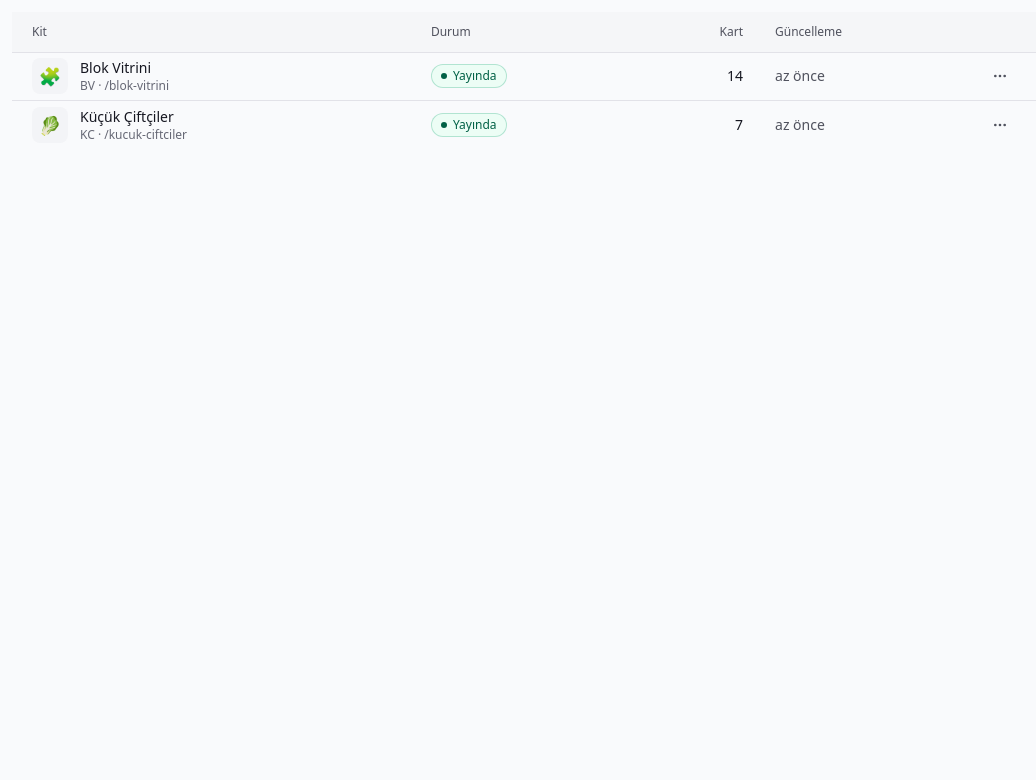
Test: KitsTable › duplicates a kit and opens the copy
Click the button named "Blok Vitrini için işlemler": x=1000, y=76 [984,60,1016,92]
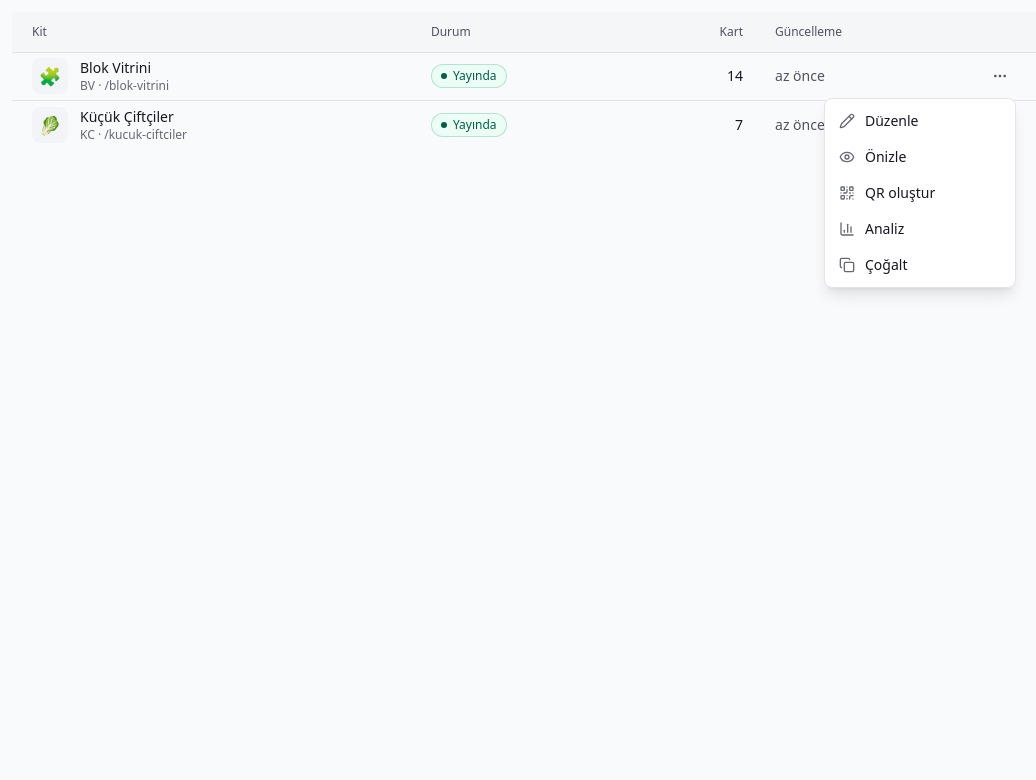
Click the menu item "Çoğalt": x=873, y=264 [839,255,908,274]
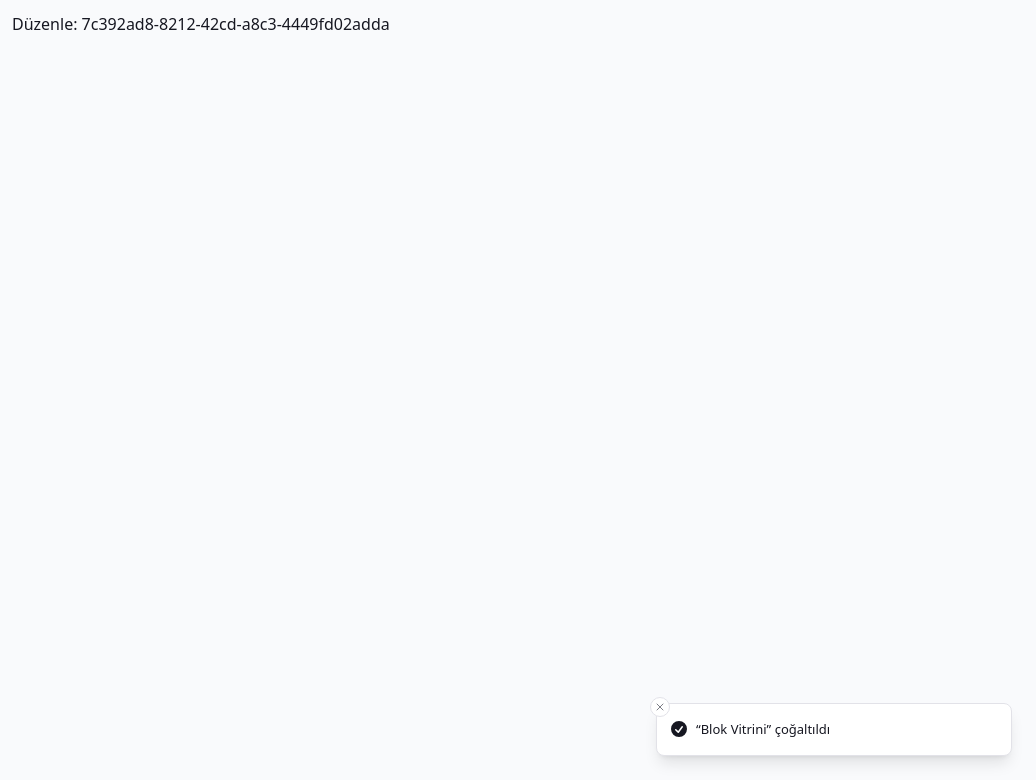
Now the text "“Blok Vitrini” çoğaltıldı" is shown, box [696,720,830,739]
